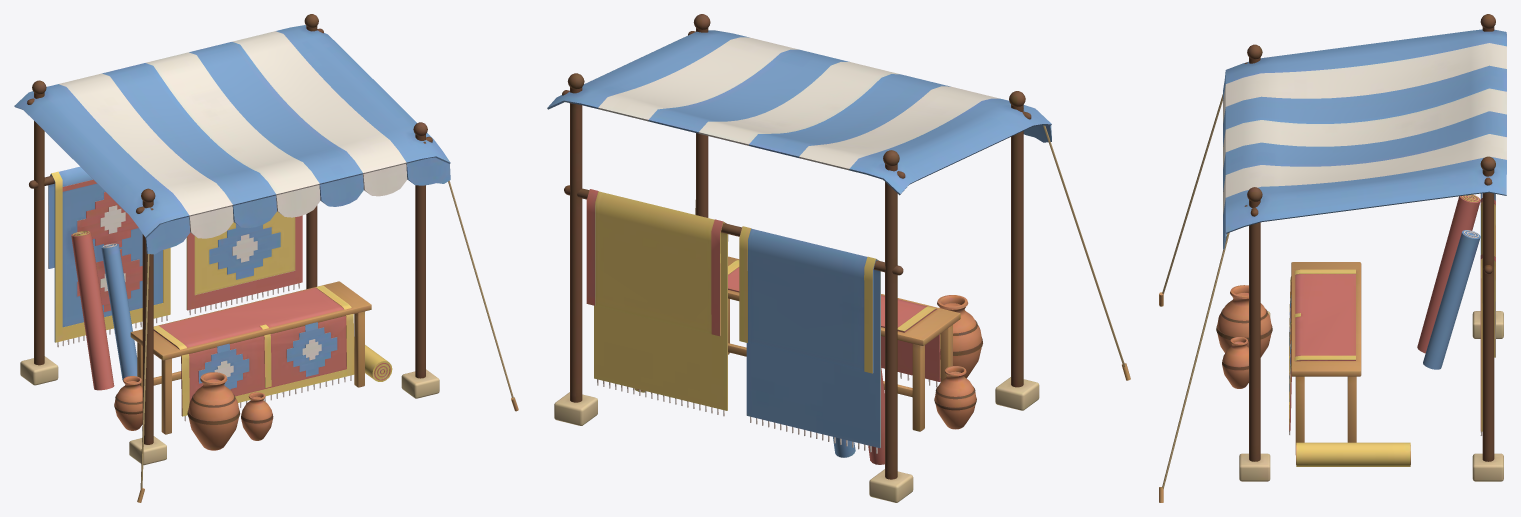
Rendered from arch_stall.glb.
3 renders of one model, left to right at view 1: azimuth 30°, elevation 25°; view 2: azimuth 150°, elevation 25°; view 3: azimuth 270°, elevation 25°, orthographic. The views are drawn at different scales.
Parts seen in each view (by area): view 1: bazaar-awning-stall_body; view 2: bazaar-awning-stall_body; view 3: bazaar-awning-stall_body.
Part boxes in pixels (bbox=[...]): bazaar-awning-stall_body: bbox=[14, 14, 518, 502]; bazaar-awning-stall_body: bbox=[547, 14, 1130, 502]; bazaar-awning-stall_body: bbox=[1159, 14, 1506, 502].
Size of the model in its own units: 3.64 by 2.71 by 2.68.
1 material, 1 textured.
